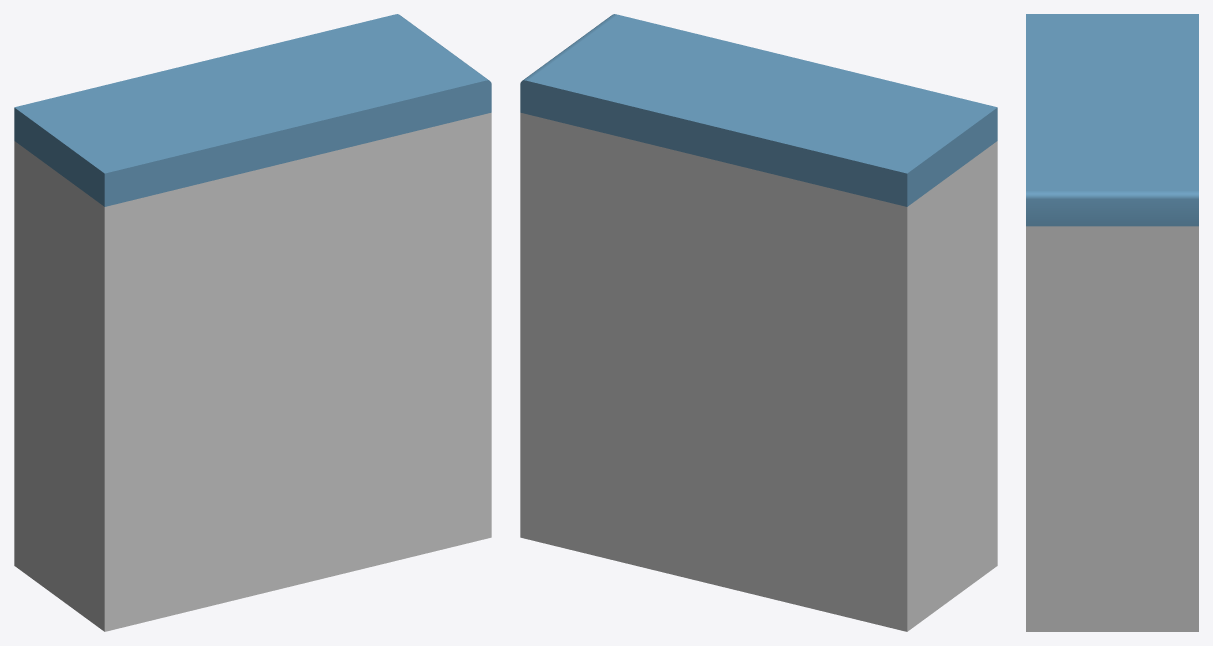
The model's file is stove_counter00.FBX.
The picture shows the model from 3 angles, left to right: view 1: azimuth 30°, elevation 25°; view 2: azimuth 150°, elevation 25°; view 3: azimuth 270°, elevation 25°; orthographic projection. The views are drawn at different scales.
Visible parts, largest first — view 1: stove_counter001, Object002; view 2: stove_counter001, Object002; view 3: stove_counter001, Object002.
Boxes of the visible parts, box(x1,y1,x2,y2) form: stove_counter001: box(14, 112, 491, 631); Object002: box(14, 14, 491, 206); stove_counter001: box(520, 112, 997, 631); Object002: box(520, 14, 997, 206); stove_counter001: box(1026, 226, 1198, 631); Object002: box(1026, 14, 1198, 226).
Size of the model in its own units: 1925 by 2178 by 780.
